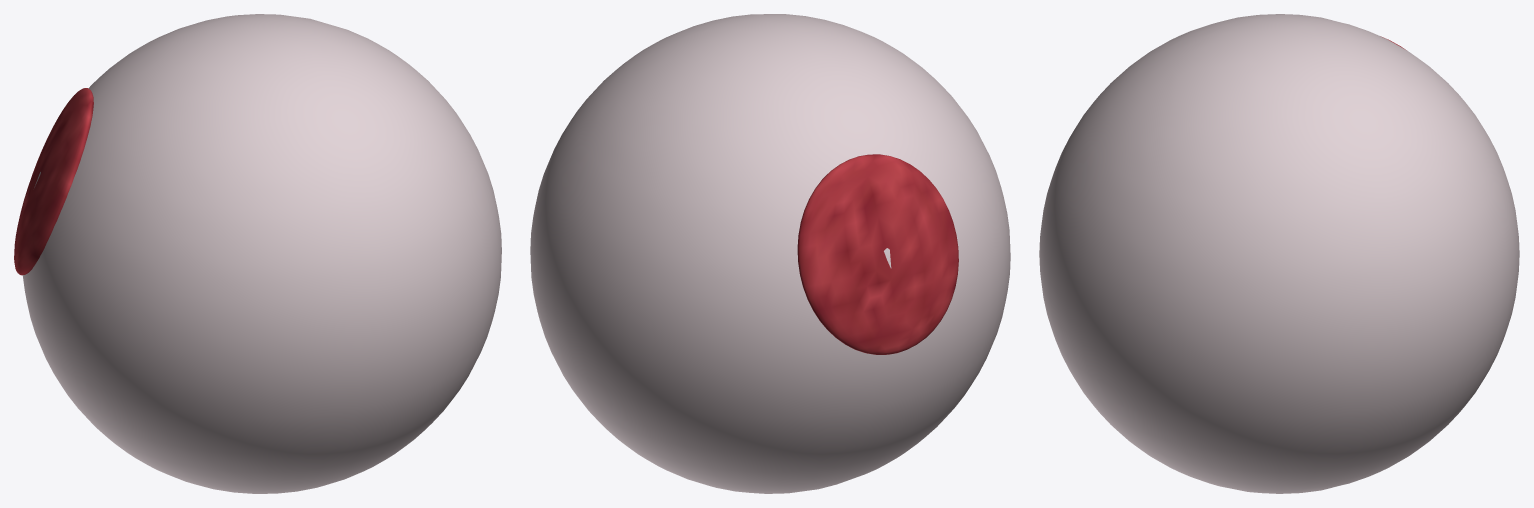
Rendered from hafta_30.glb.
The picture shows the model from 3 angles, left to right: view 1: azimuth 30°, elevation 25°; view 2: azimuth 150°, elevation 25°; view 3: azimuth 270°, elevation 25°; orthographic projection.
Visible parts, largest first — view 1: Amniyon_kesesi, Plasenta; view 2: Amniyon_kesesi, Plasenta; view 3: Amniyon_kesesi.
Boxes of the visible parts, left/top/right/bottom form: Amniyon_kesesi: left=22, top=14, right=501, bottom=493; Plasenta: left=14, top=88, right=93, bottom=275; Amniyon_kesesi: left=530, top=14, right=1010, bottom=493; Plasenta: left=797, top=154, right=958, bottom=354; Amniyon_kesesi: left=1039, top=14, right=1519, bottom=493.
Bounding box in the file's own units: 1.63 × 1.63 × 1.63.
